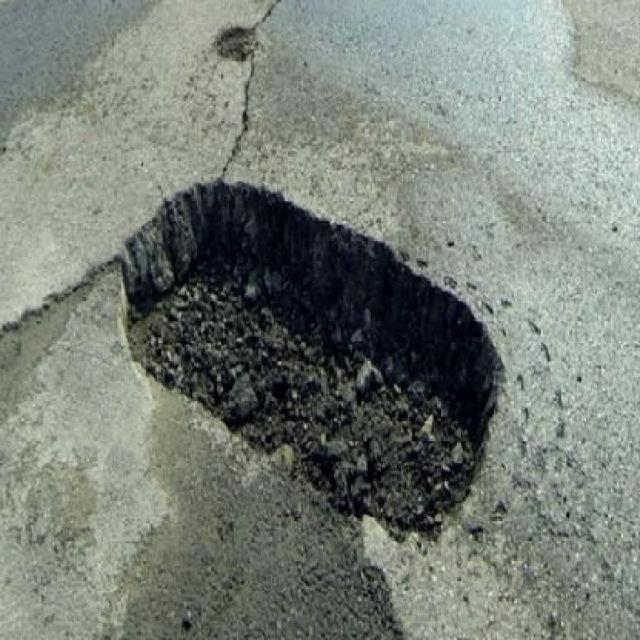Buraco: (96, 178, 512, 547)
